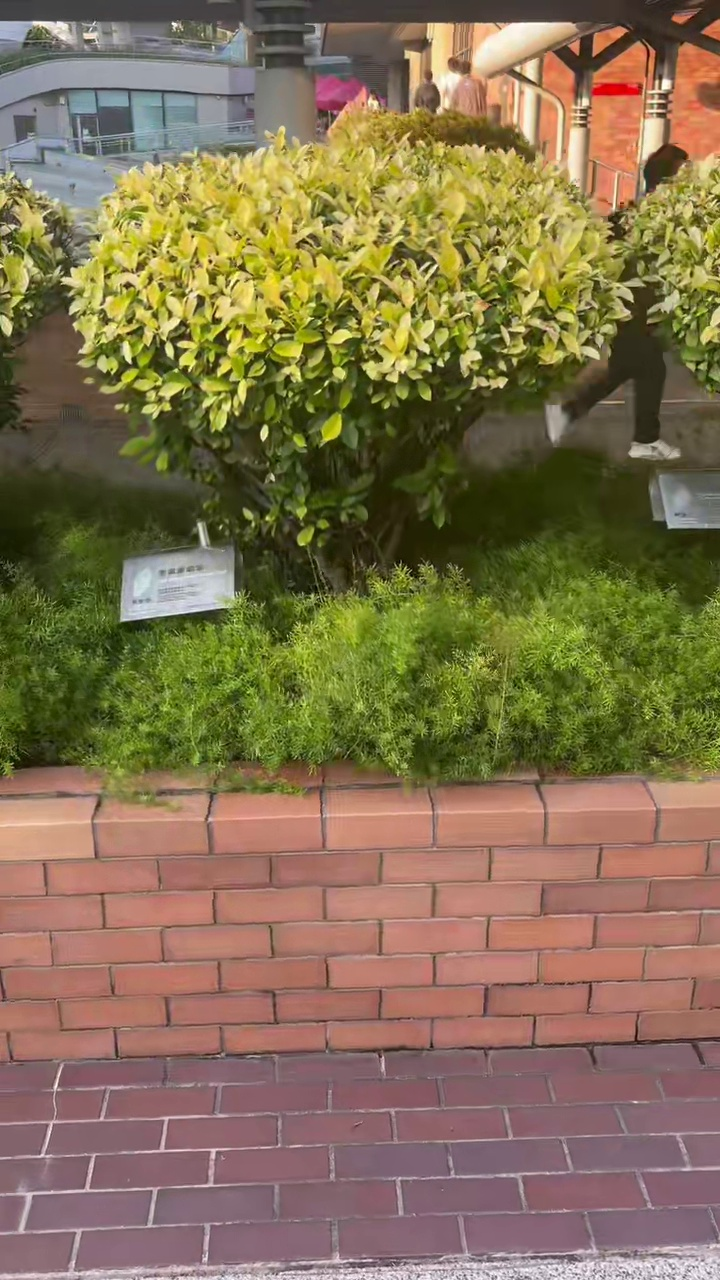Golden-leaves Fig: (69, 134, 627, 585)
